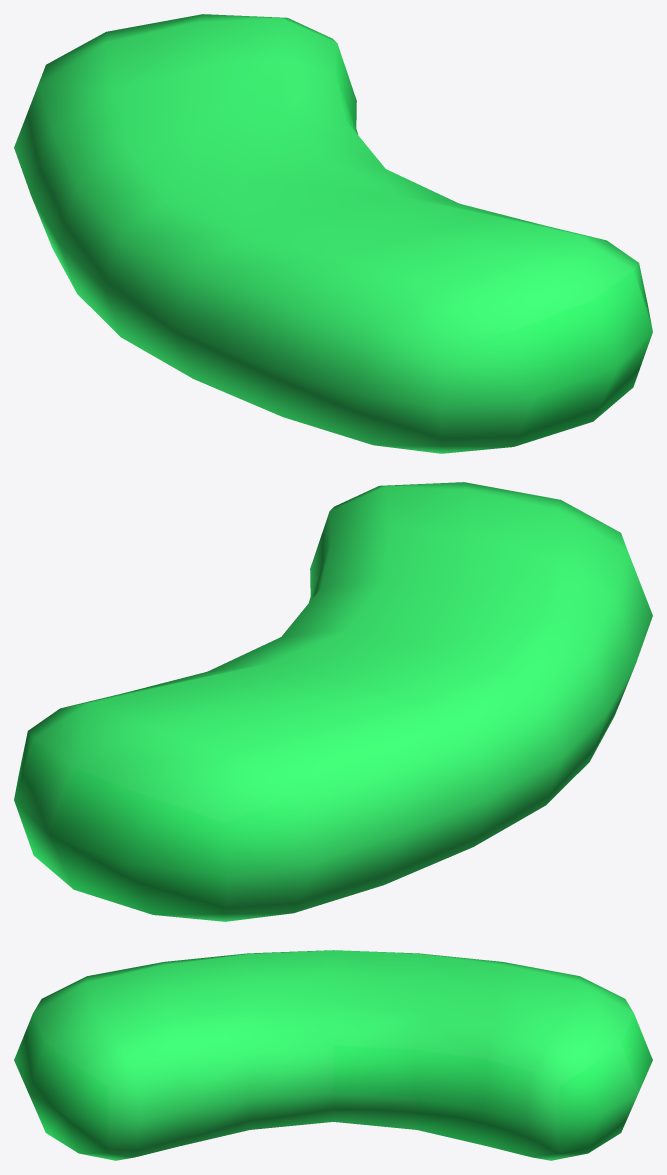
Rendered from Jelly Bean Green.fbx.
The picture shows the model from 3 angles, top to bottom: view 1: azimuth 30°, elevation 25°; view 2: azimuth 150°, elevation 25°; view 3: azimuth 270°, elevation 25°; orthographic projection. The views are drawn at different scales.
Parts seen in each view (by area): view 1: Jelly Bean Green; view 2: Jelly Bean Green; view 3: Jelly Bean Green.
Part boxes in pixels (x1,y1,x2,y2): Jelly Bean Green: (14,14,652,453); Jelly Bean Green: (14,482,652,921); Jelly Bean Green: (14,950,652,1160).
Bounding box in the file's own units: 0.0763 × 0.0329 × 0.1467.
